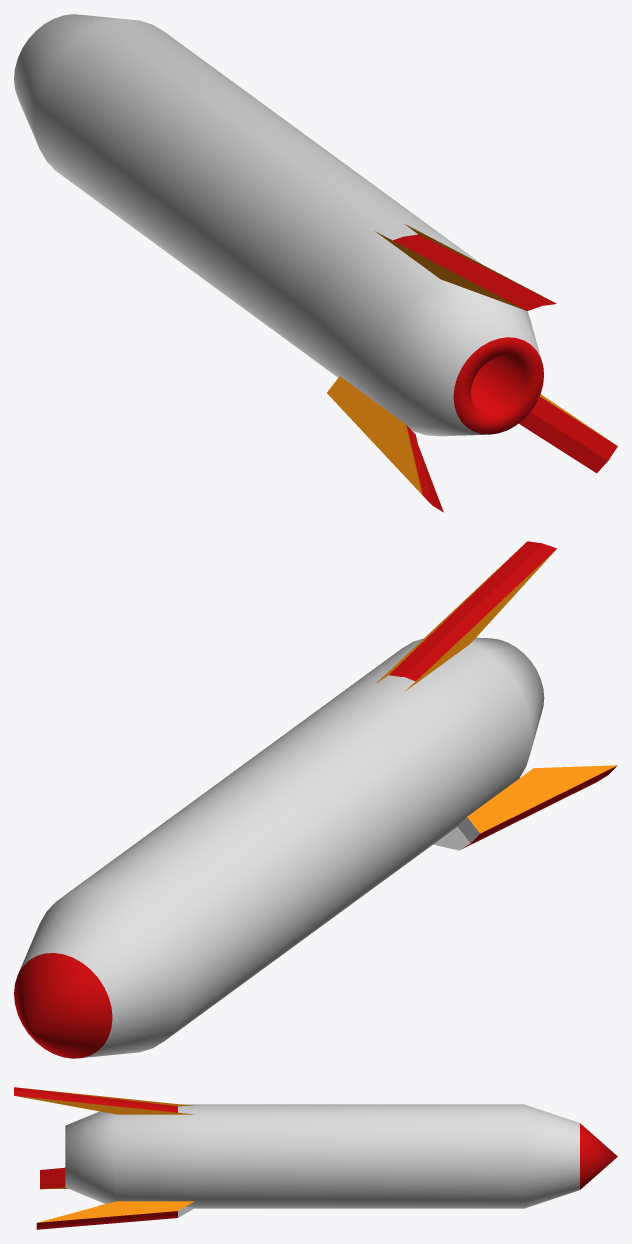
3 views of the same model, one above another, from view 1: azimuth 30°, elevation 25°; view 2: azimuth 150°, elevation 25°; view 3: azimuth 270°, elevation 25° (orthographic). The views are drawn at different scales.
Parts seen in each view (by area): view 1: Cube.000; view 2: Cube.000; view 3: Cube.000.
Part boxes in pixels (left/top/right/bottom): Cube.000: left=14, top=14, right=617, bottom=512; Cube.000: left=14, top=541, right=617, bottom=1058; Cube.000: left=14, top=1087, right=617, bottom=1229.
Size of the model in its own units: 46.82 by 47.47 by 215.
